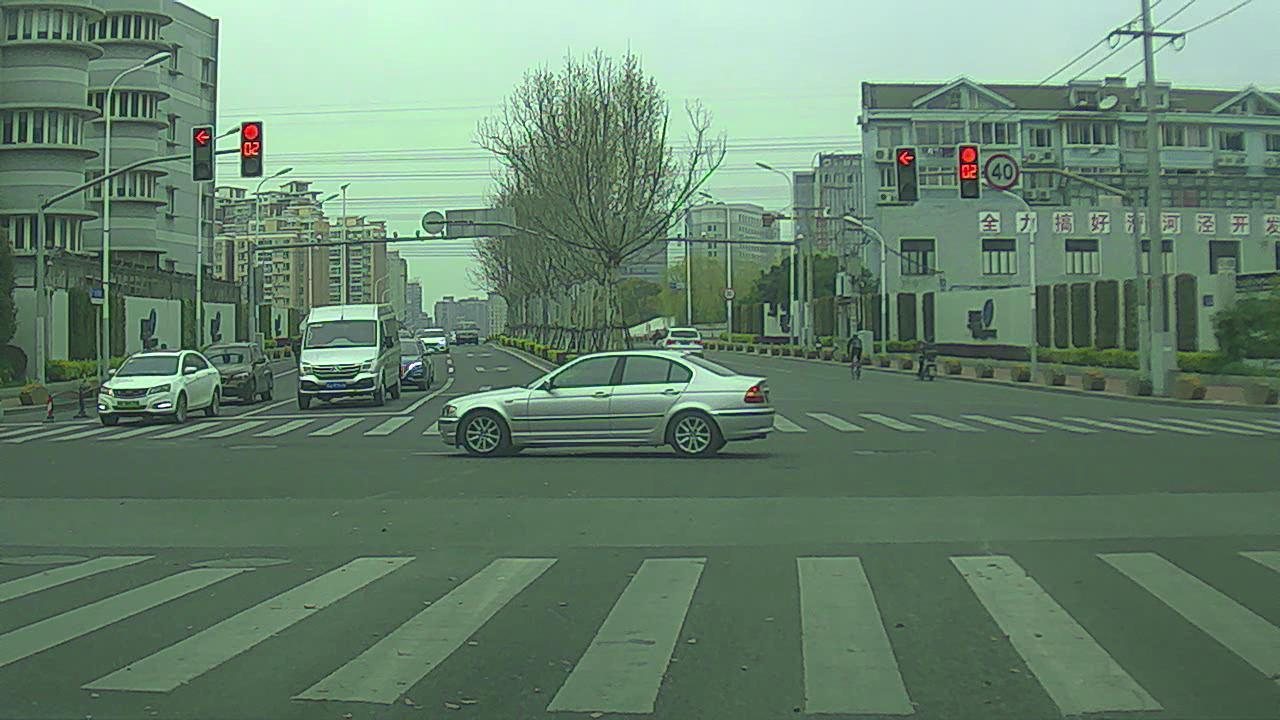traffic_light: (894, 146, 922, 202), (190, 126, 217, 183), (956, 145, 983, 200), (241, 120, 265, 172)
